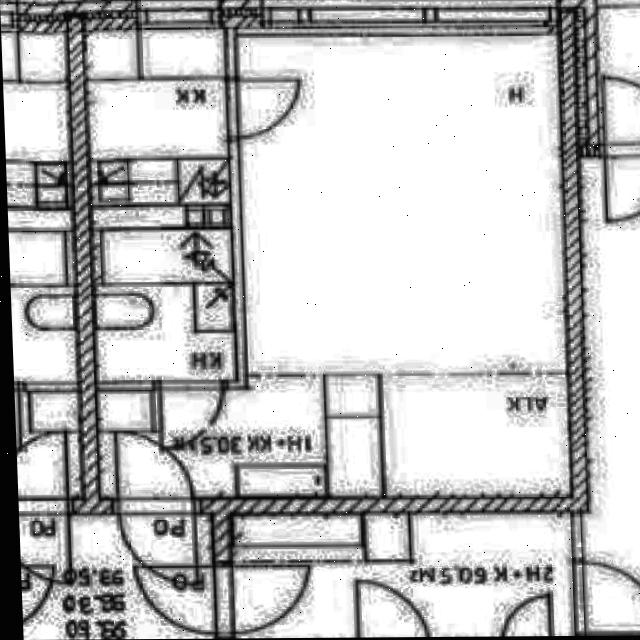room: (84, 25, 236, 384)
